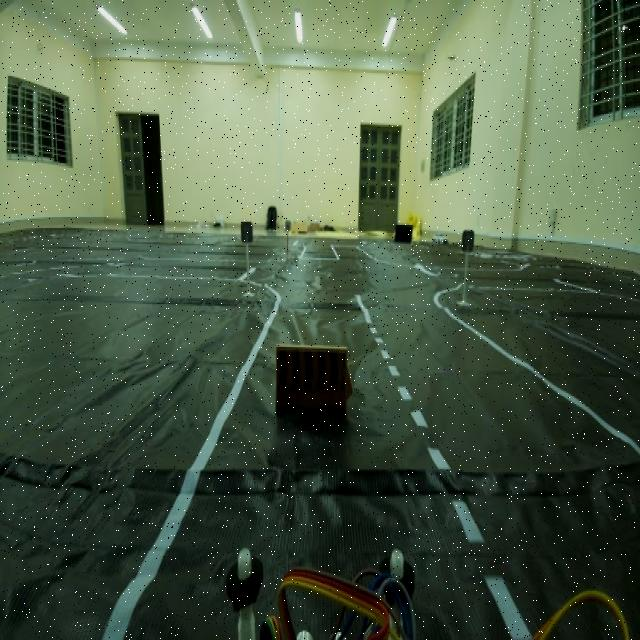roadblock: (273, 334, 356, 428)
